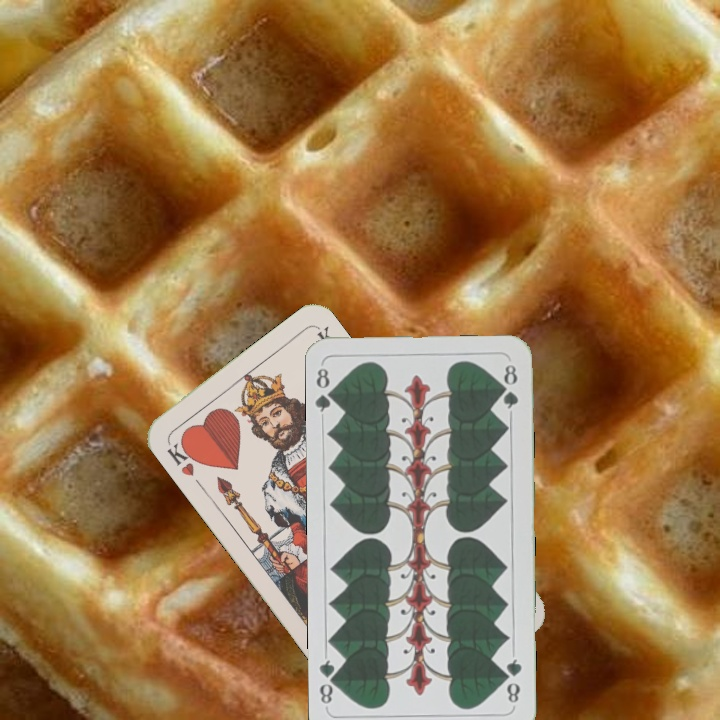G8: (312, 364, 339, 414), (501, 655, 525, 706)
HK: (163, 435, 203, 479)
